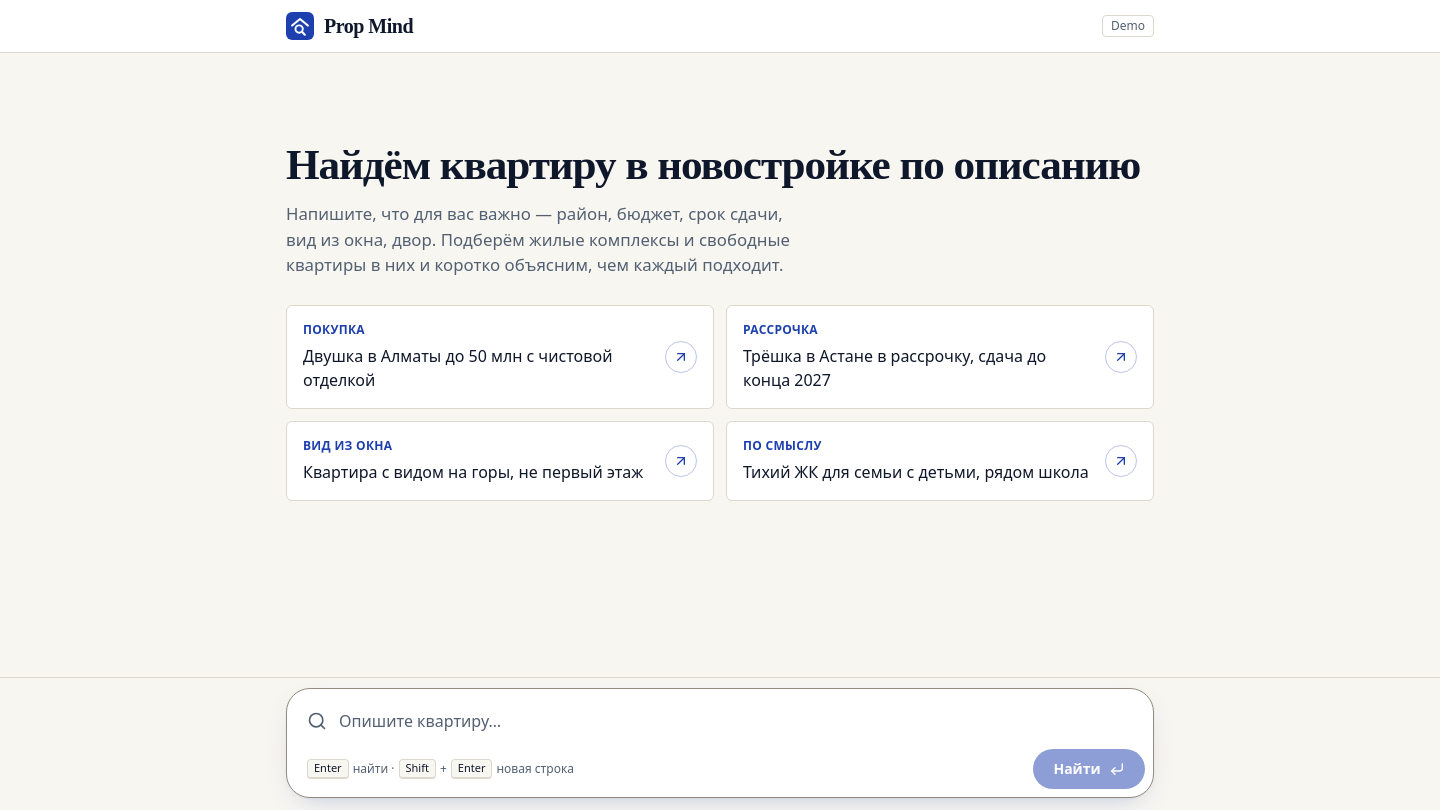
it: stream: user bubble, chips, cards with badges, streamed answer with links that highlight the card
This screenshot has width=1440, height=810.
Later steps or results of the test are not shown.
Type "двушка в Алматы" into the text box named "Запрос" at (736,721), box 339,701 -> 1133,741
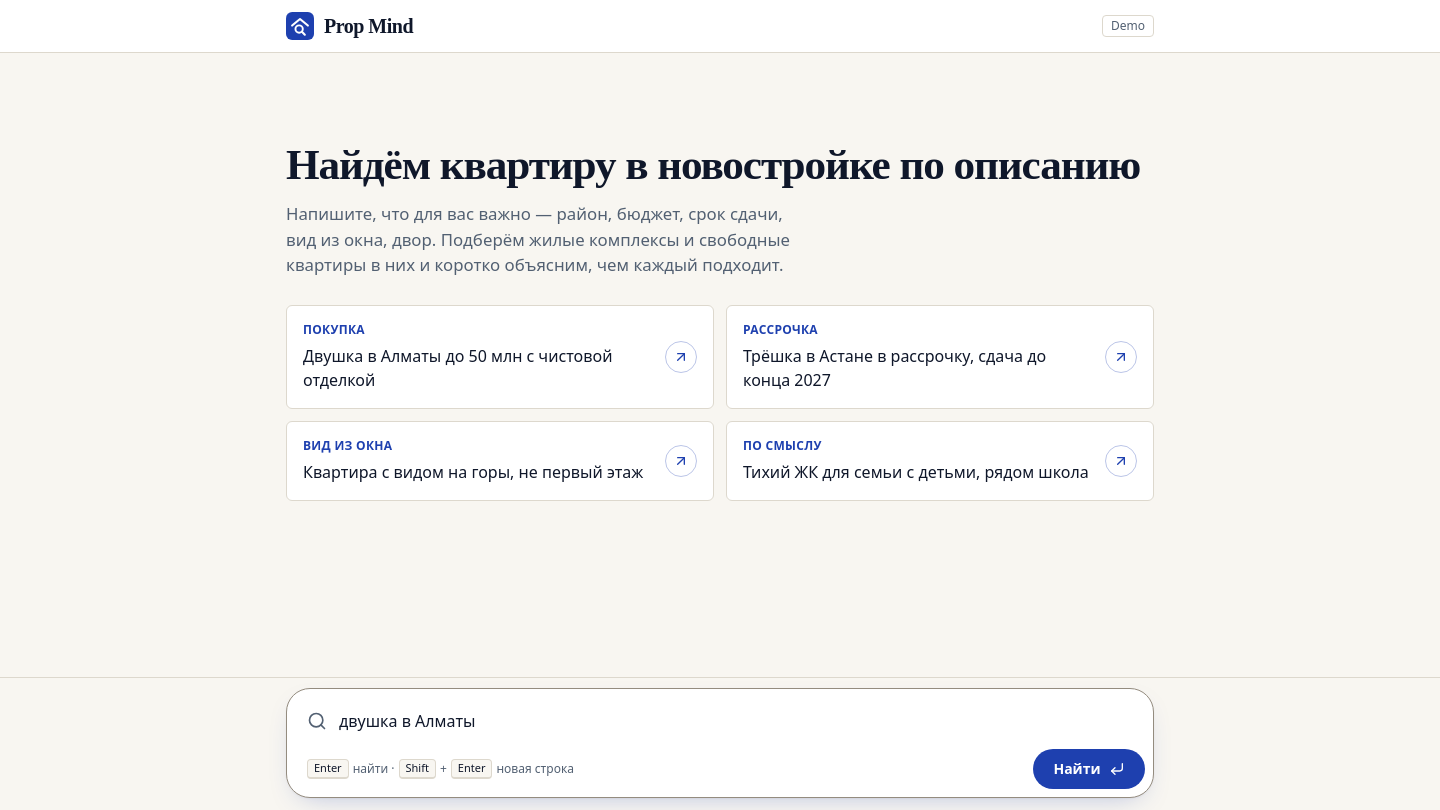
Press Enter in the text box named "Запрос", box 339,701 -> 1133,741
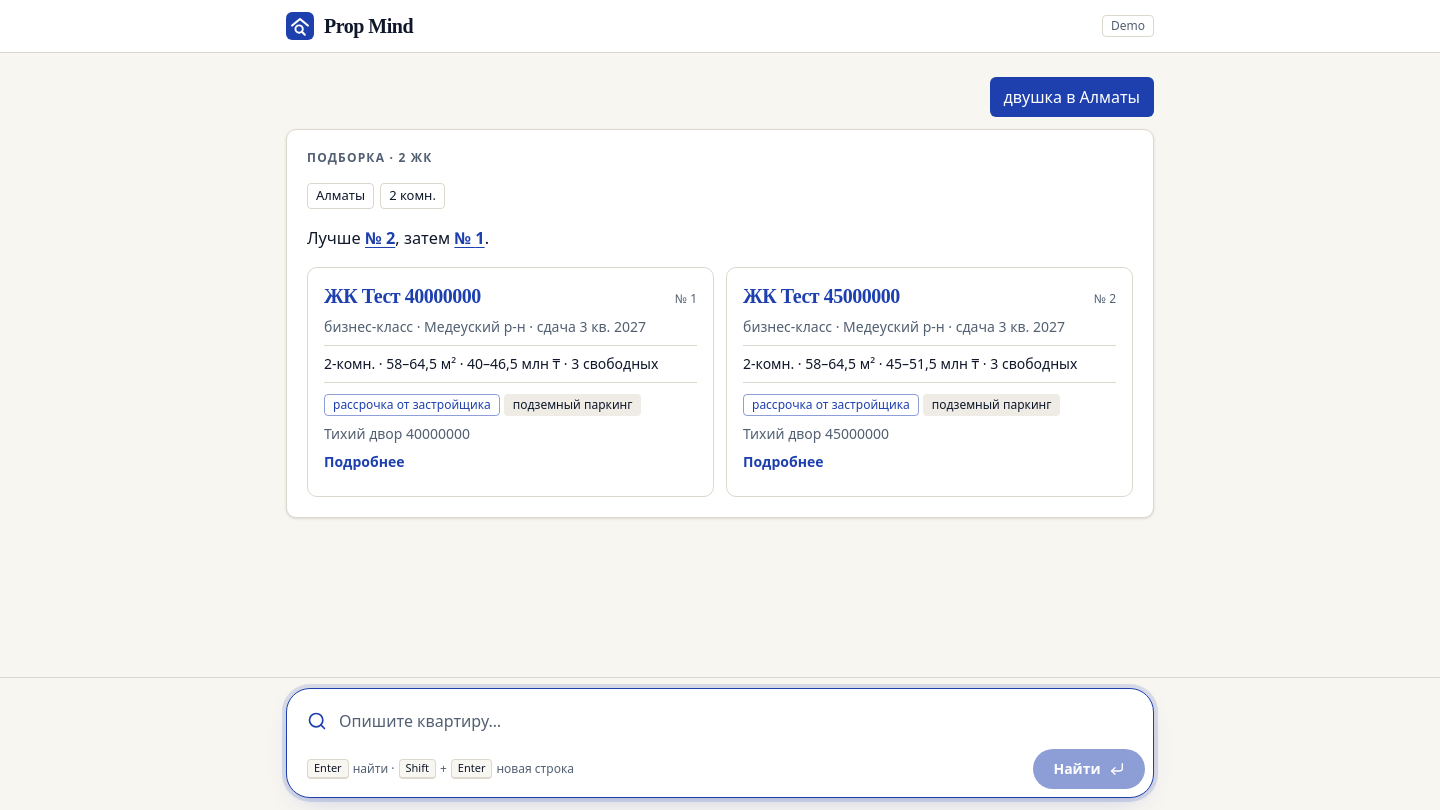
Result: the text "Алматы" is shown at 307,183 -> 374,208
Result: the number of elements with class "complex" is 2 at 307,267 -> 714,497; 726,267 -> 1133,497
Result: the list item "2-комн. · 58–64,5 м² · 40–46,5 млн ₸ · 3 свободных" is shown at 324,354 -> 697,374
